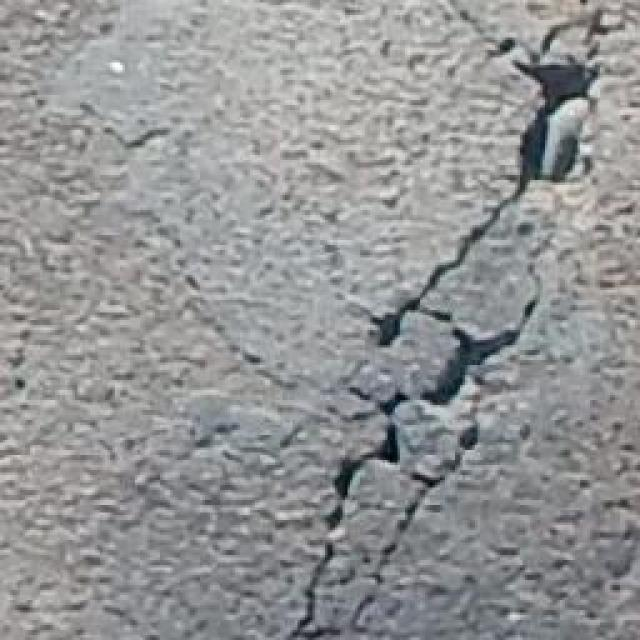concrete-crack: (281, 0, 611, 638), (346, 414, 489, 636)
